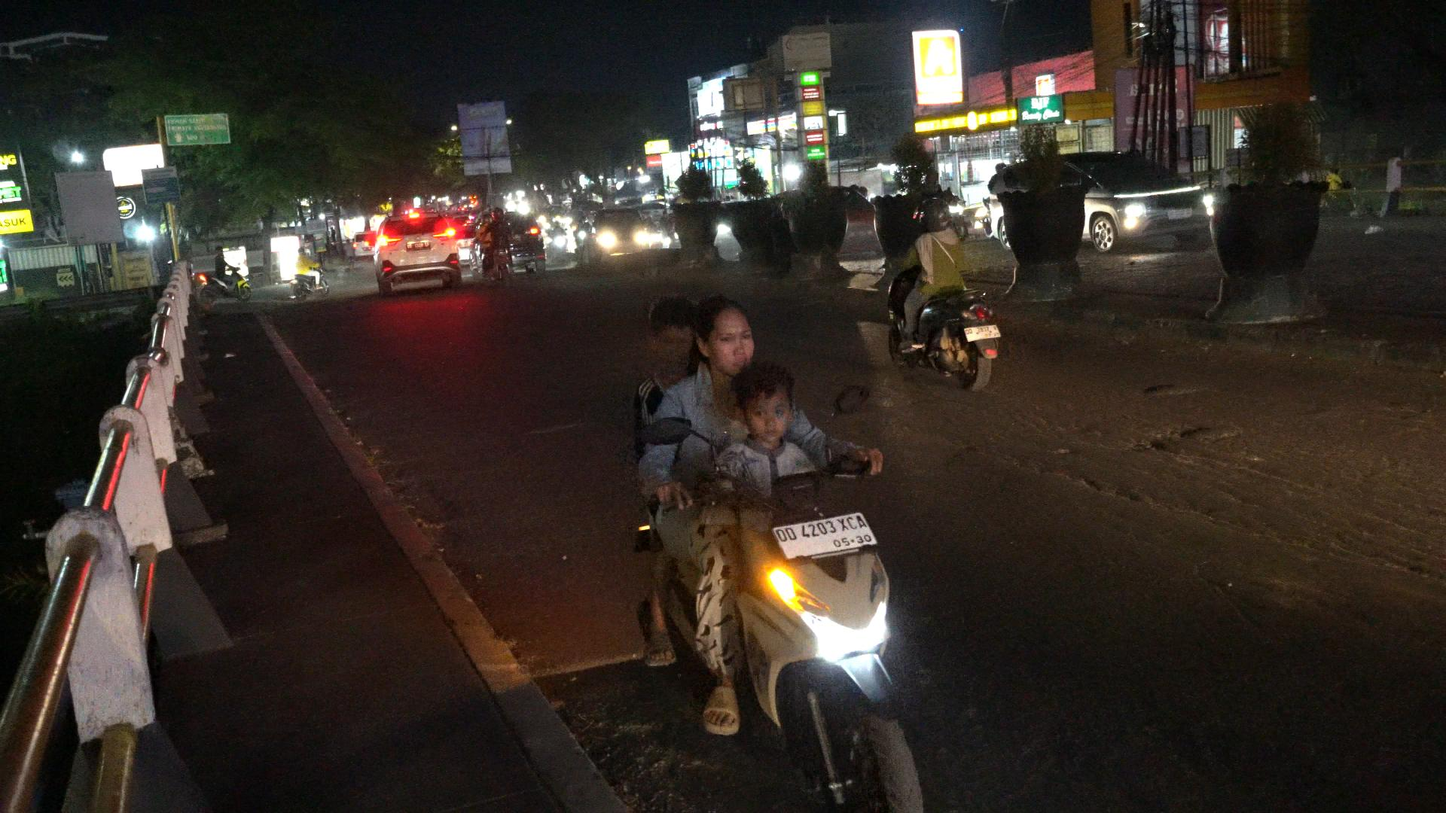number-plate: (775, 510, 879, 564)
